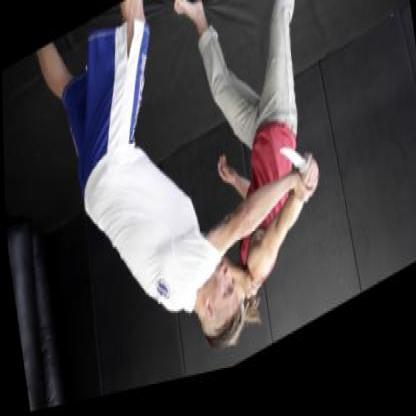knife: (274, 134, 322, 214)
